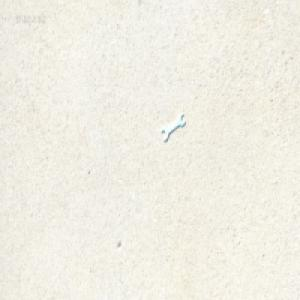Wrench: (161, 115, 185, 145)
